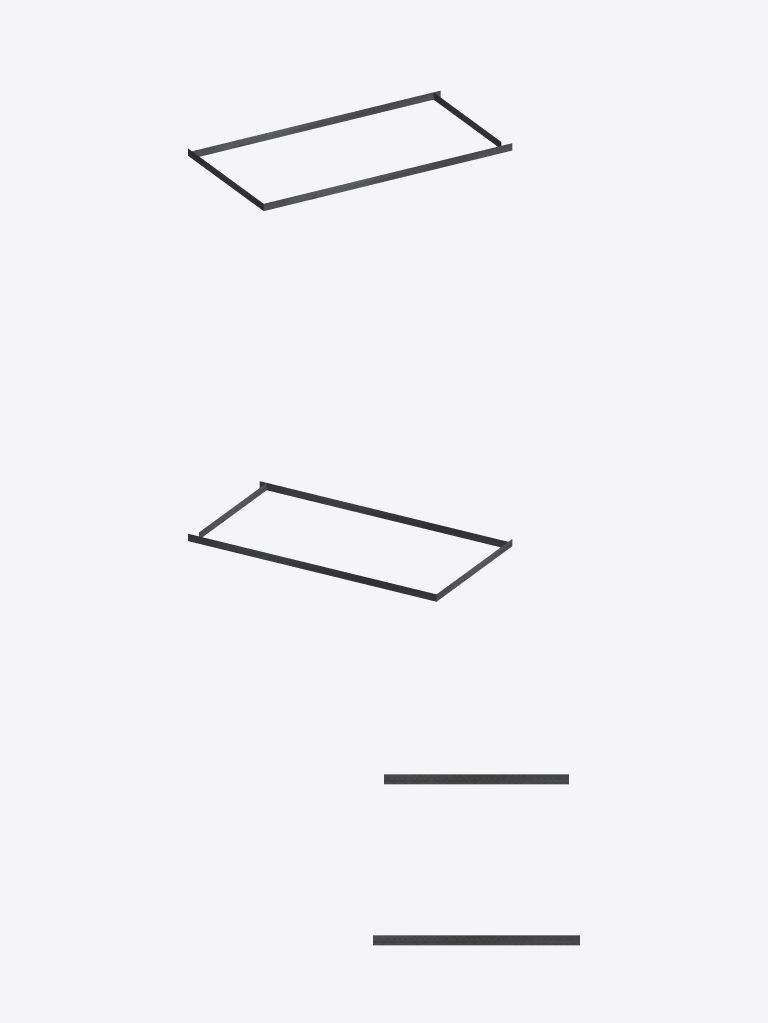
The model's file is back_ceiling_light.glb.
3 renders of one model, top to bottom at view 1: azimuth 30°, elevation 25°; view 2: azimuth 150°, elevation 25°; view 3: azimuth 270°, elevation 25°, orthographic. The views are drawn at different scales.
Visible parts, largest first — view 1: back_ceiling_light; view 2: back_ceiling_light; view 3: back_ceiling_light.
Boxes of the visible parts, <box> form: back_ceiling_light: <box>188,90,512,210</box>; back_ceiling_light: <box>188,481,512,601</box>; back_ceiling_light: <box>373,774,579,945</box>.
Size of the model in its own units: 2 by 0.03 by 2.
3 materials, 3 textured.
